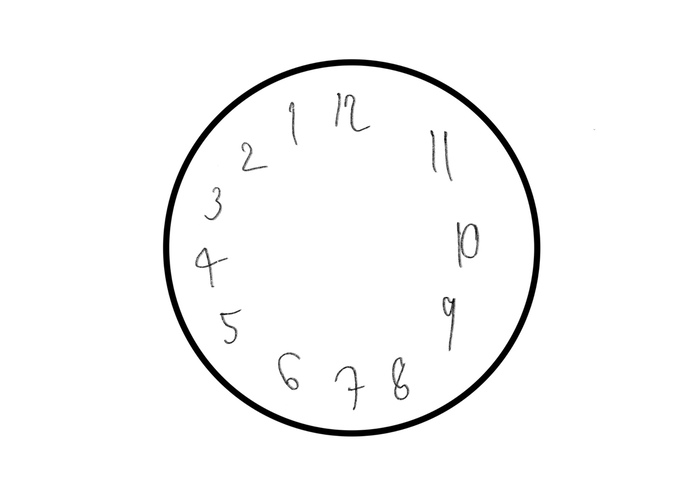eight: (383, 350, 417, 410)
eleven: (422, 124, 463, 186)
five: (215, 306, 249, 348)
four: (185, 242, 233, 300)
nine: (437, 291, 461, 358)
one: (285, 95, 308, 152)
seven: (331, 364, 370, 413)
six: (274, 349, 307, 394)
ten: (453, 218, 485, 273)
three: (197, 183, 230, 225)
twelve: (326, 84, 373, 138)
two: (232, 137, 272, 180)
